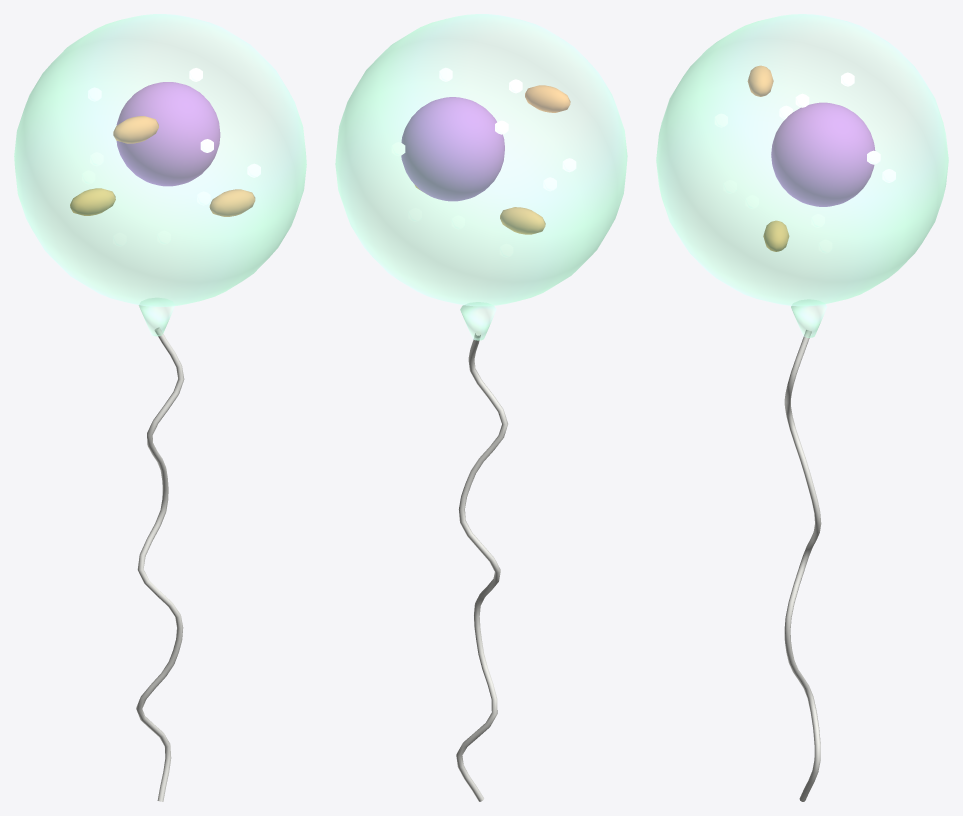
Rendered from B04_Cell.glb.
3 renders of one model, left to right at view 1: azimuth 30°, elevation 25°; view 2: azimuth 150°, elevation 25°; view 3: azimuth 270°, elevation 25°, orthographic.
Parts seen in each view (by area): view 1: B04_Cell_Mesh; view 2: B04_Cell_Mesh; view 3: B04_Cell_Mesh.
Boxes of the visible parts, bbox=[...] form: B04_Cell_Mesh: bbox=[14, 14, 306, 801]; B04_Cell_Mesh: bbox=[335, 14, 627, 801]; B04_Cell_Mesh: bbox=[656, 14, 948, 801].
Size of the model in its own units: 0.56 by 1.63 by 0.56.
